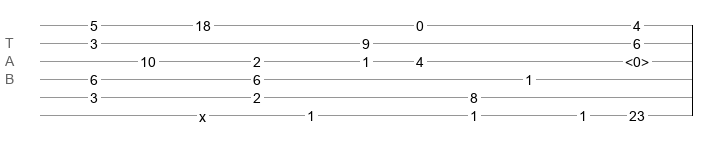0: (416, 18, 424, 28)
1: (307, 108, 315, 118), (362, 54, 370, 64), (470, 108, 478, 118), (525, 72, 533, 82), (579, 108, 587, 118)
10: (140, 54, 156, 64)
18: (195, 18, 211, 28)
2: (253, 90, 261, 100), (253, 54, 261, 64)
23: (629, 108, 645, 118)
3: (90, 36, 98, 46), (90, 90, 98, 100)
4: (416, 54, 424, 64), (633, 18, 641, 28)
5: (90, 18, 98, 28)
6: (90, 72, 98, 82), (253, 72, 261, 82), (633, 36, 641, 46)
8: (470, 90, 478, 100)
9: (362, 36, 370, 46)
harmonic: (625, 54, 649, 64)
x: (199, 109, 206, 117)
